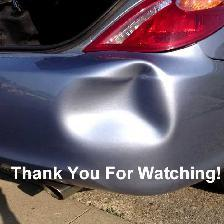bumper_dent: (31, 30, 196, 160)
